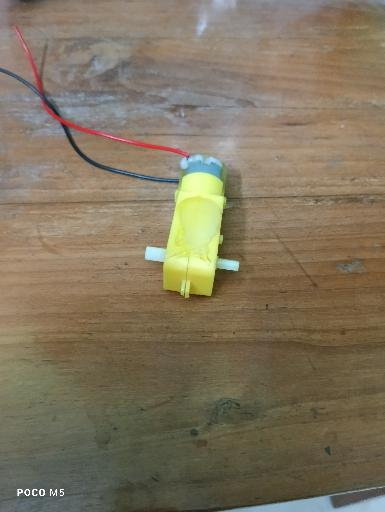Motor: (143, 152, 242, 300)
